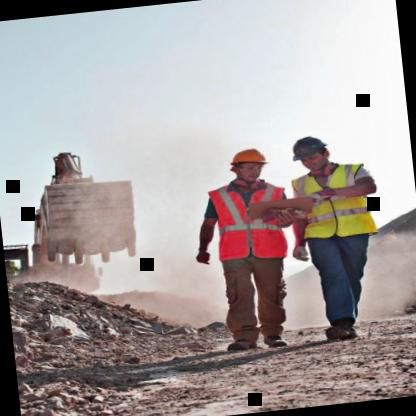helmet: (222, 139, 276, 189), (289, 130, 336, 177)
